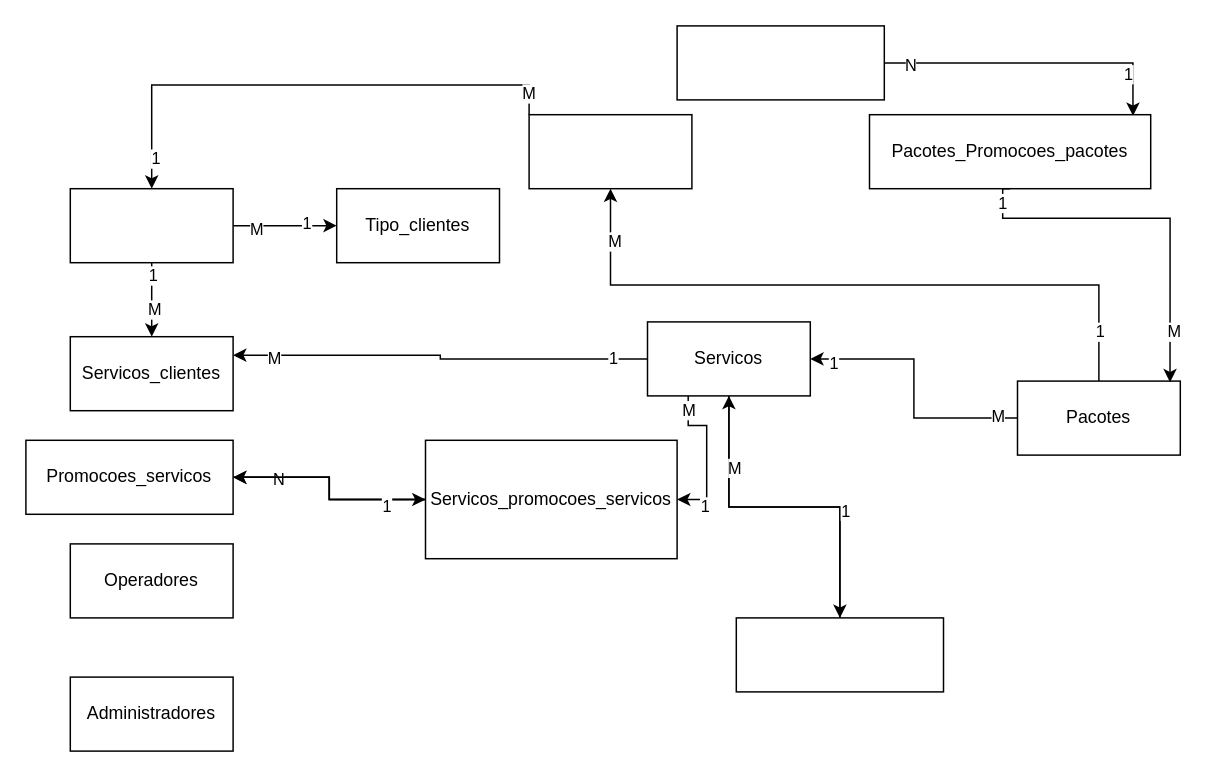
This 1209x777 diagram has some shape labels left out. The shapes that lost their labels are listed below. From the top down, each one's centre as x and y in pixels, then its label:
At [780,62]: "Promocoes_pacotes".
At [610,151]: "Pacotes_clientes".
At [151,225]: "Clientes".
At [839,654]: "Tipo_servicos".
